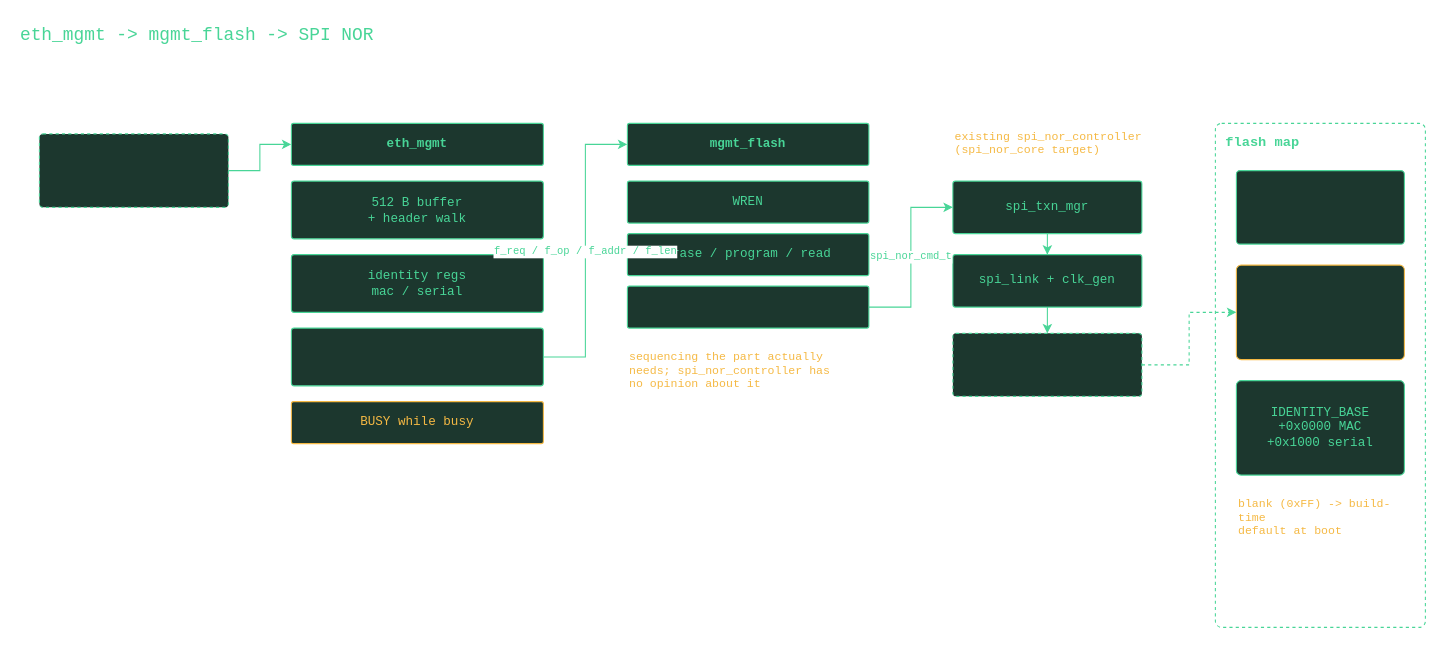
Image size: 1444x646. Some labels were removed from this diagram. The shapes that lost their labels are listed below. From the top down, each one's centre as x and y in pixels, then its label:
At (133,170): "datagram in/out udp_endpoint client".
At (1319,207): "golden bitstream never writable".
At (747,306): "RDSR poll until WIP=0".
At (1319,312): "APP_IMAGE_BASE application image erase / write here".
At (416,356): "replay cache (cmd, seq, status)".
At (1047,364): "QSPI pins (STARTUPE3)".
